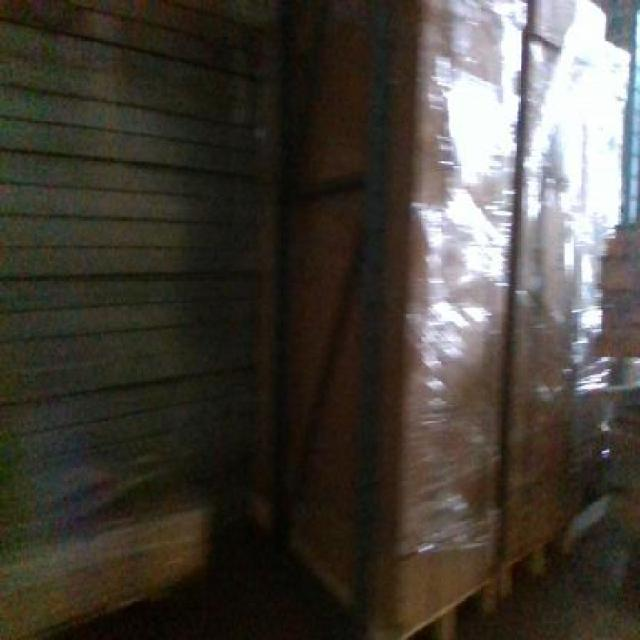ground: (472, 489, 638, 638), (32, 571, 350, 638)
pallet: (252, 490, 504, 638), (498, 517, 576, 605)
